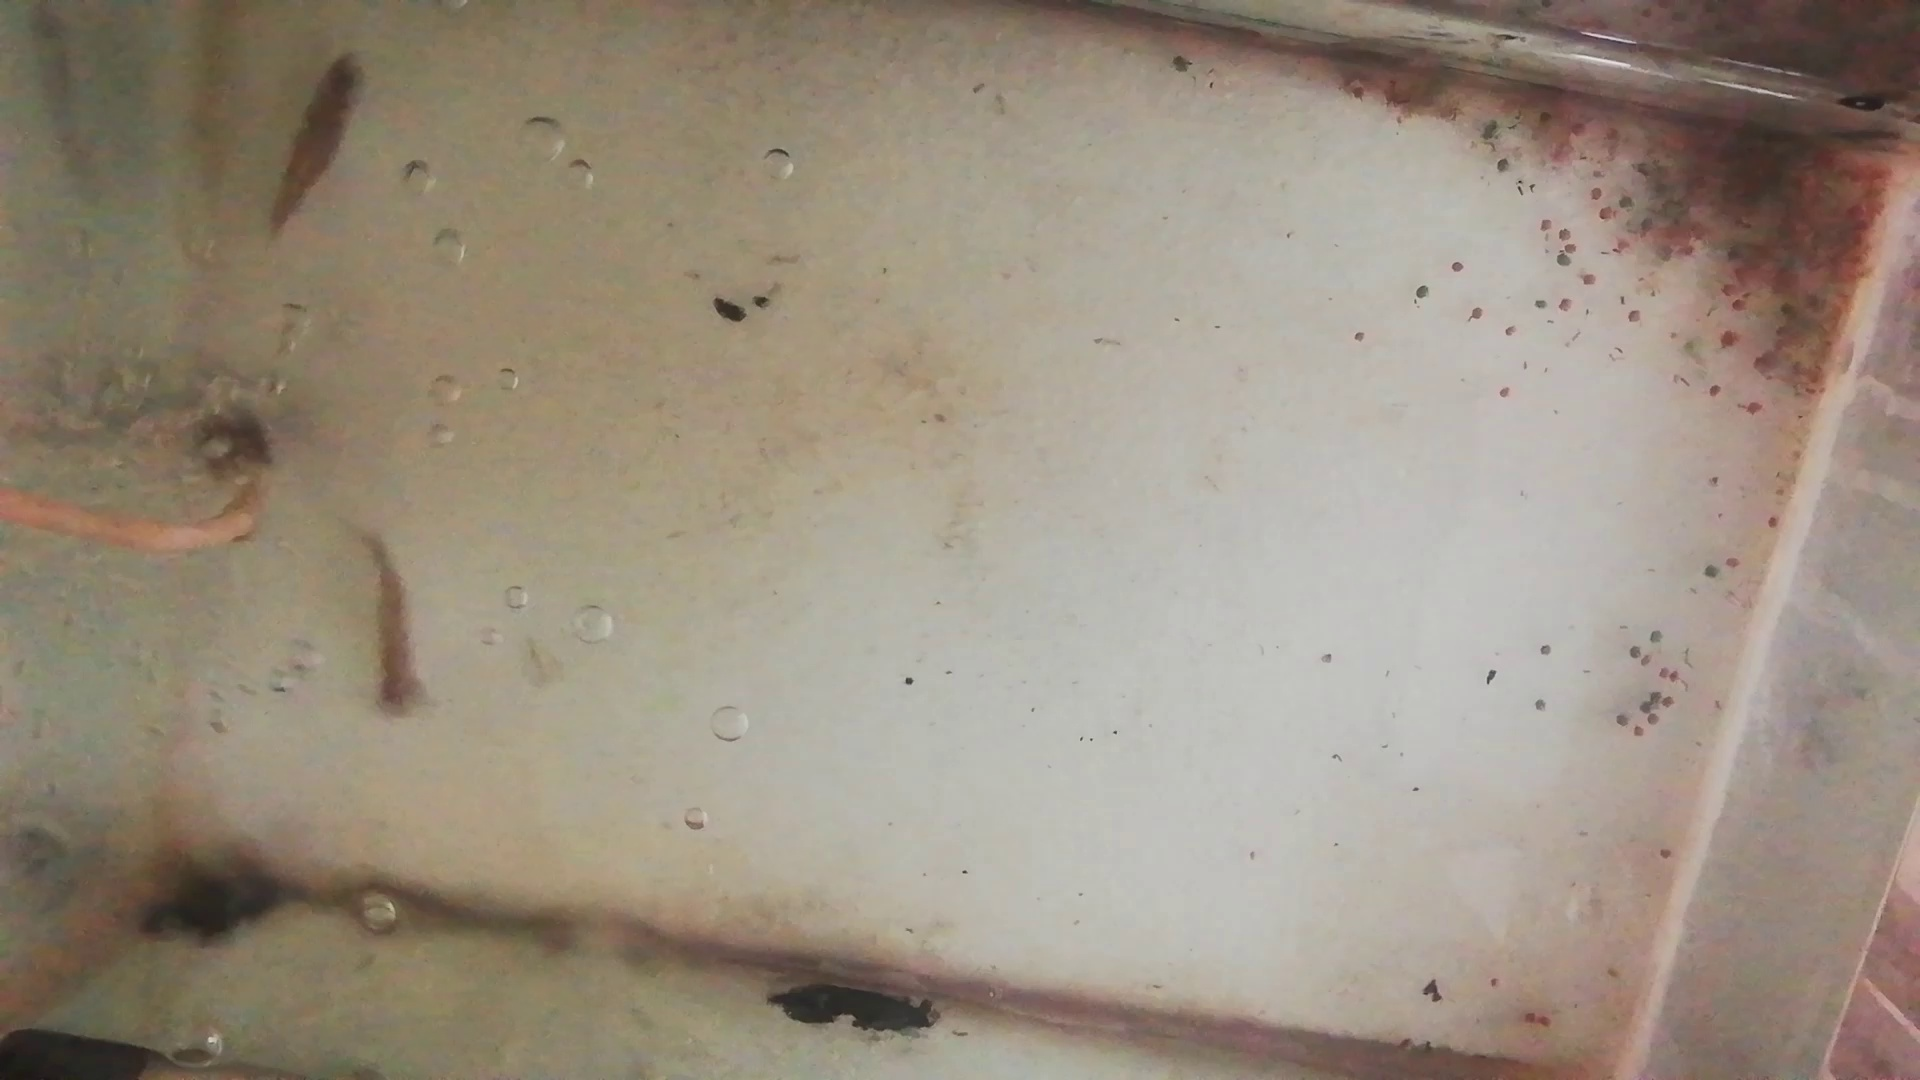fish: (262, 51, 364, 253), (364, 533, 431, 723)
